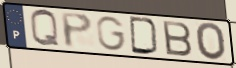B: (161, 19, 195, 58)
D: (128, 15, 161, 56)
G: (95, 15, 128, 53)
O: (194, 21, 229, 62)
P: (59, 11, 95, 50)
Q: (28, 8, 62, 48)
